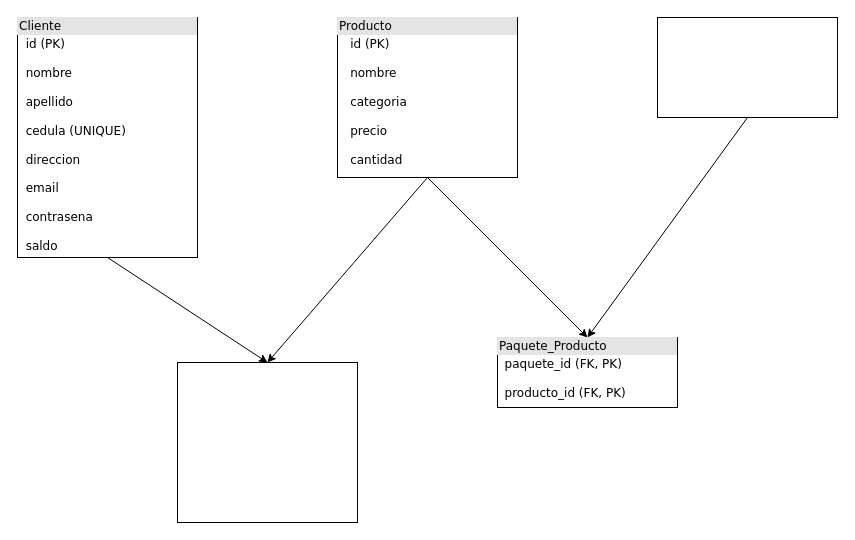
Some shapes in this 855 by 540 pixel diagram are drawn without their labels. The centre of each missing label's shape, as x and y in pixels:
"Compra id (PK) id _cliente (FK) id_ producto (FK) cantidad fecha" belongs at (x=267, y=442).
"Paquete id (PK) descuento precio _final" belongs at (x=747, y=67).
